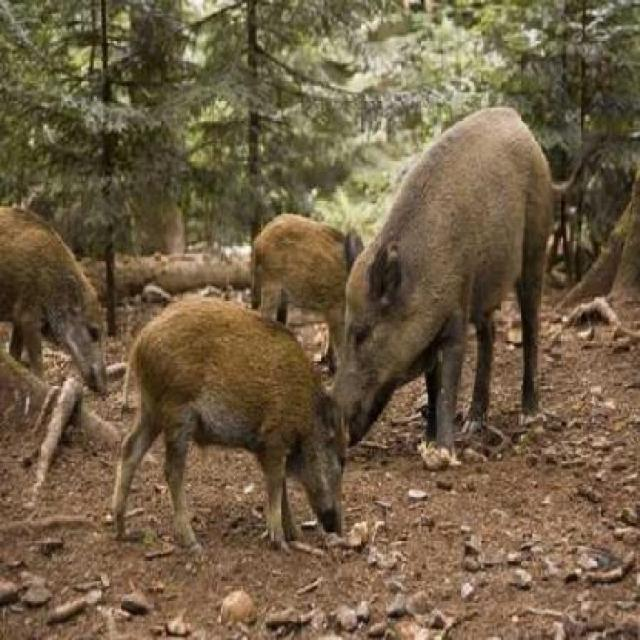pig: (360, 74, 578, 451), (119, 266, 378, 534), (0, 150, 131, 366), (249, 169, 383, 334)
